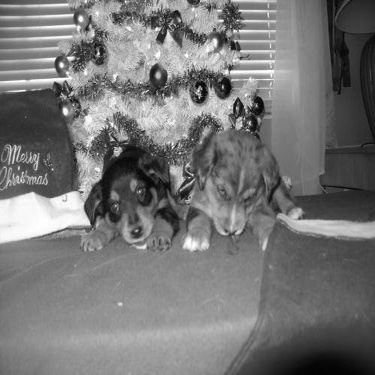dog: (161, 120, 311, 257), (63, 136, 183, 258)
